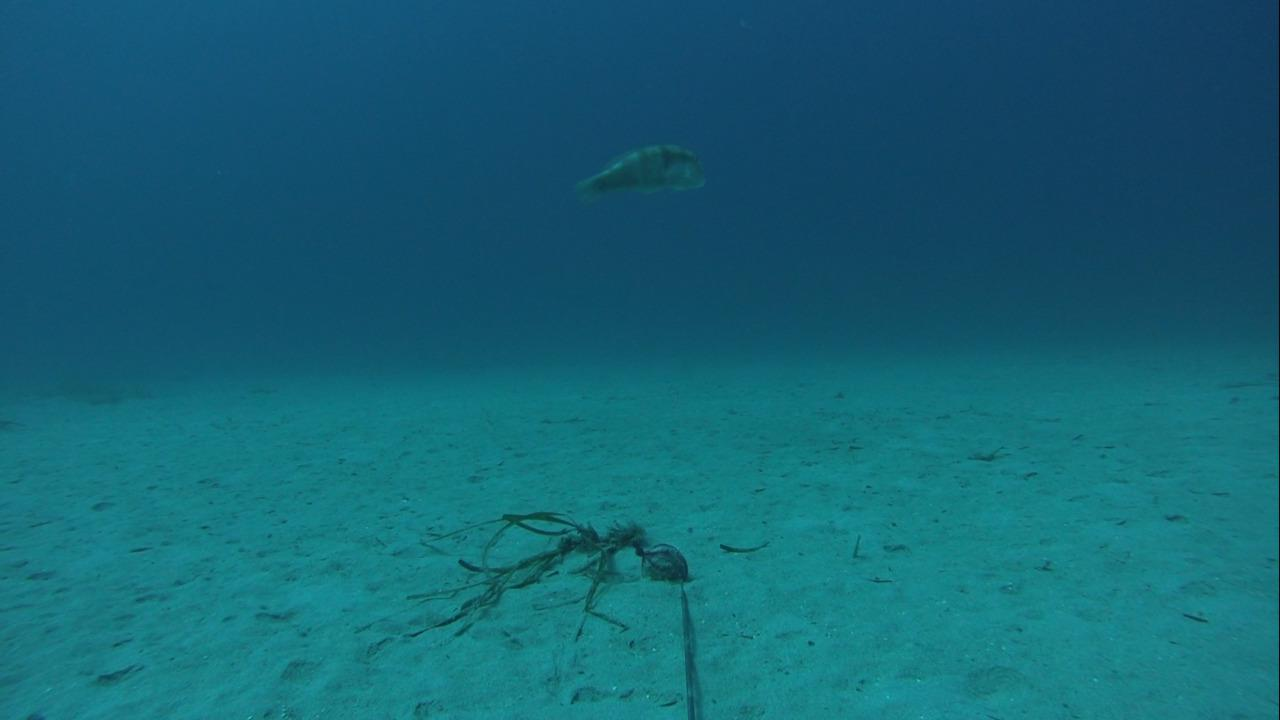raor: (571, 138, 715, 211)
